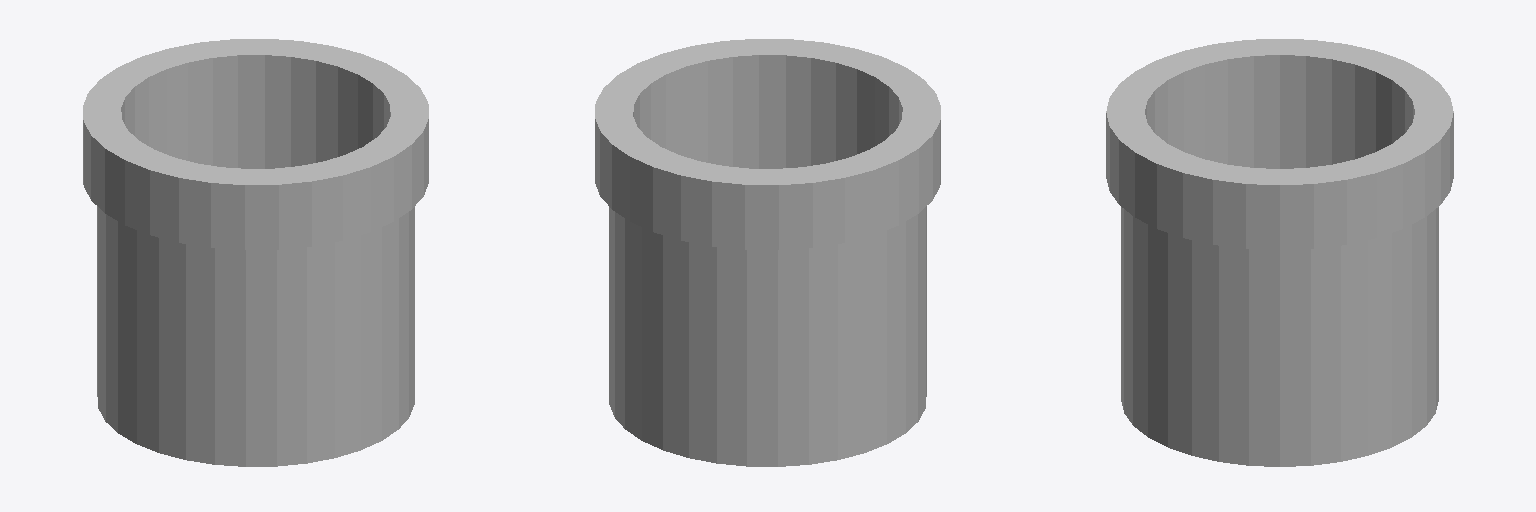
Rendered from Pot.obj.
The picture shows the model from 3 angles: view 1: azimuth 30°, elevation 25°; view 2: azimuth 150°, elevation 25°; view 3: azimuth 270°, elevation 25°; orthographic projection.
Visible parts, largest first — view 1: Cylinder; view 2: Cylinder; view 3: Cylinder.
Part boxes in pixels (x1,y1,x2,y2): Cylinder: (83, 39, 428, 466); Cylinder: (595, 39, 940, 466); Cylinder: (1106, 39, 1453, 466).
Size of the model in its own units: 2.19 by 2 by 2.19.